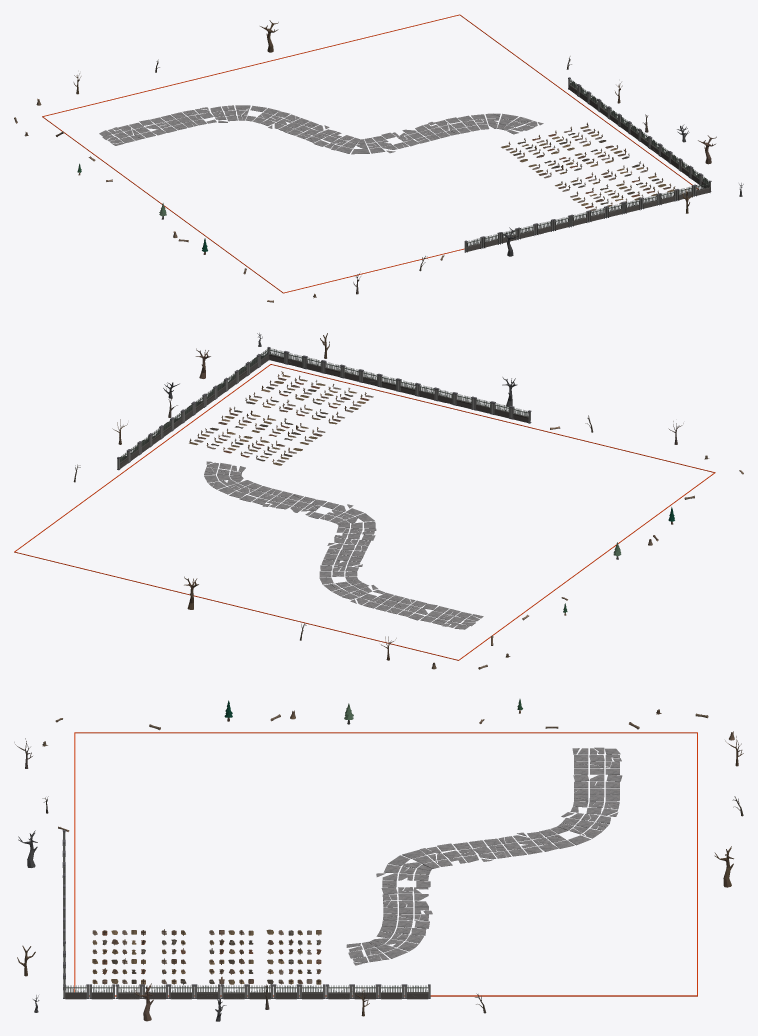
Rendered from EnvNoColliders.fbx.
The picture shows the model from 3 angles, top to bottom: view 1: azimuth 30°, elevation 25°; view 2: azimuth 150°, elevation 25°; view 3: azimuth 270°, elevation 25°; orthographic projection. The views are drawn at different scales.
Parts seen in each view (by area): view 1: Road, Fence, Grave, Border, Trees; view 2: Road, Fence, Grave, Border, Trees; view 3: Road, Fence, Grave, Border, Trees.
Part boxes in pixels (<box>): Road: <box>99,105,543,154</box>; Fence: <box>464,77,711,252</box>; Grave: <box>501,122,675,210</box>; Border: <box>42,14,698,293</box>; Trees: <box>14,20,743,302</box>; Road: <box>204,461,483,629</box>; Fence: <box>117,347,531,470</box>; Grave: <box>189,371,373,465</box>; Border: <box>14,364,715,660</box>; Trees: <box>73,333,743,669</box>; Road: <box>346,747,622,965</box>; Fence: <box>62,830,430,999</box>; Grave: <box>92,929,321,984</box>; Border: <box>74,732,697,996</box>; Trees: <box>14,699,743,1021</box>.
Size of the model in its own units: 1904 by 111 by 1880.
